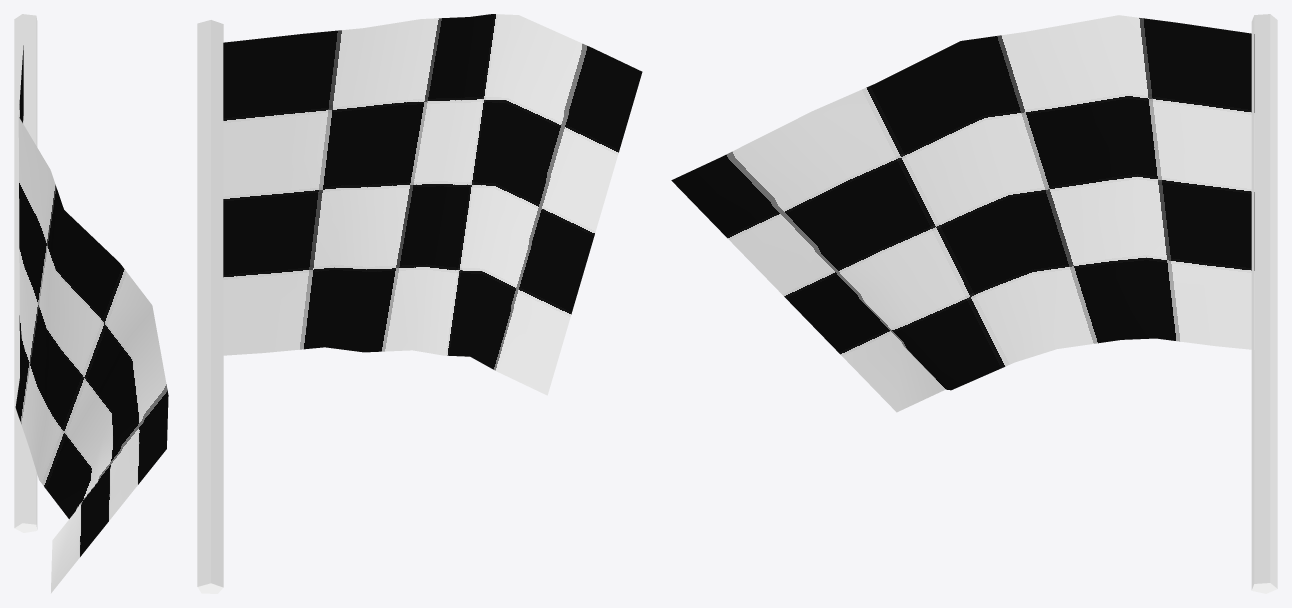
The model's file is ps2_save-icons_f1careerchallenge.glb.
The picture shows the model from 3 angles, left to right: view 1: azimuth 30°, elevation 25°; view 2: azimuth 150°, elevation 25°; view 3: azimuth 270°, elevation 25°; orthographic projection. The views are drawn at different scales.
Visible parts, largest first — view 1: SLIME1.ICO; view 2: SLIME1.ICO; view 3: SLIME1.ICO.
Part boxes in pixels (<box>): SLIME1.ICO: <box>14,14,168,593</box>; SLIME1.ICO: <box>197,14,642,593</box>; SLIME1.ICO: <box>671,14,1277,593</box>.
Size of the model in its own units: 0.7681 by 2.47 by 2.39.
Materials: 1 (1 with a texture image).
